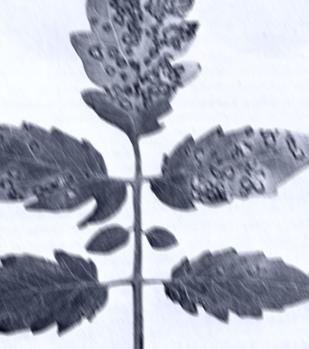Tomato Septoria leaf spot: (72, 0, 205, 138), (0, 110, 128, 226), (167, 242, 309, 343), (146, 126, 309, 211), (0, 247, 113, 347)
